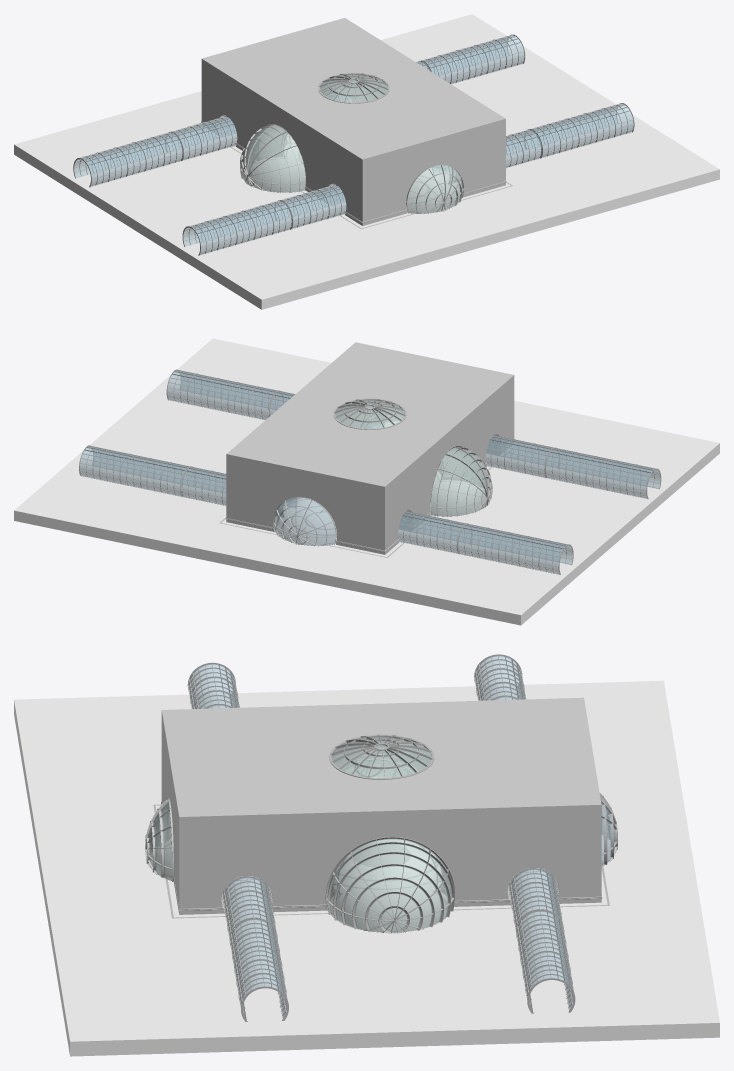
Rendered from grocery_store.glb.
The picture shows the model from 3 angles, top to bottom: view 1: azimuth 30°, elevation 25°; view 2: azimuth 150°, elevation 25°; view 3: azimuth 270°, elevation 25°; orthographic projection. The views are drawn at different scales.
Parts seen in each view (by area): view 1: Base_Material #25_0, Shape009_Material #141_0, Sphere005_Glass1_0, Shape169_Glass2_0, Shape173_Glass2_0, Shape179_Glass2_0, Shape182_Glass2_0, Sphere007_Glass1_0, Shape163_Glass2_0, Shape159_Glass2_0, Shape175_Material #139_0, Shape171_Material #139_0 (+14 smaller); view 2: Base_Material #25_0, Shape009_Material #141_0, Shape173_Glass2_0, Shape169_Glass2_0, Shape182_Glass2_0, Shape179_Glass2_0, Sphere005_Glass1_0, Sphere008_Glass2_0, Shape163_Glass2_0, Shape159_Glass2_0, Shape151_Glass2_0, Shape171_Material #139_0 (+15 smaller); view 3: Base_Material #25_0, Shape009_Material #141_0, Sphere004_Glass1_0, Shape118_Material #139_0, Shape179_Glass2_0, Shape182_Glass2_0, Sphere001_Glass1_0, Shape134_Material #26_0, Shape110_Material #139_0, Shape151_Glass2_0, Shape155_Glass2_0, Shape173_Glass2_0 (+52 smaller).
Boxes of the visible parts, box(x1,y1,x2,y2) form: Base_Material #25_0: box(14, 14, 719, 309); Shape009_Material #141_0: box(202, 18, 505, 159); Sphere005_Glass1_0: box(242, 125, 305, 192); Shape169_Glass2_0: box(74, 132, 182, 185); Shape173_Glass2_0: box(183, 201, 291, 254); Shape179_Glass2_0: box(526, 103, 633, 157); Shape182_Glass2_0: box(420, 35, 524, 83); Sphere007_Glass1_0: box(407, 165, 462, 213); Shape163_Glass2_0: box(167, 117, 237, 159); Shape159_Glass2_0: box(276, 185, 346, 228); Shape175_Material #139_0: box(183, 200, 291, 255); Shape171_Material #139_0: box(74, 132, 182, 186); Base_Material #25_0: box(14, 338, 719, 625); Shape009_Material #141_0: box(226, 342, 514, 487); Shape173_Glass2_0: box(545, 448, 660, 498); Shape169_Glass2_0: box(458, 524, 572, 573); Shape182_Glass2_0: box(79, 446, 193, 495); Shape179_Glass2_0: box(167, 370, 281, 419); Sphere005_Glass1_0: box(431, 447, 490, 516); Sphere008_Glass2_0: box(274, 497, 335, 545); Shape163_Glass2_0: box(398, 511, 470, 552); Shape159_Glass2_0: box(485, 436, 558, 476); Shape151_Glass2_0: box(182, 467, 296, 516); Shape171_Material #139_0: box(458, 523, 572, 574); Base_Material #25_0: box(14, 680, 719, 1056); Shape009_Material #141_0: box(161, 697, 601, 817); Sphere004_Glass1_0: box(328, 838, 452, 932); Shape118_Material #139_0: box(325, 837, 455, 933); Shape179_Glass2_0: box(230, 919, 286, 1018); Shape182_Glass2_0: box(517, 911, 573, 1009); Sphere001_Glass1_0: box(331, 737, 431, 777); Shape134_Material #26_0: box(153, 804, 609, 918); Shape110_Material #139_0: box(330, 734, 433, 778); Shape151_Glass2_0: box(509, 868, 560, 937); Shape155_Glass2_0: box(223, 876, 274, 947); Shape173_Glass2_0: box(188, 663, 238, 708).
Bounding box in the file's own units: 39.93 × 6.41 × 32.99.
